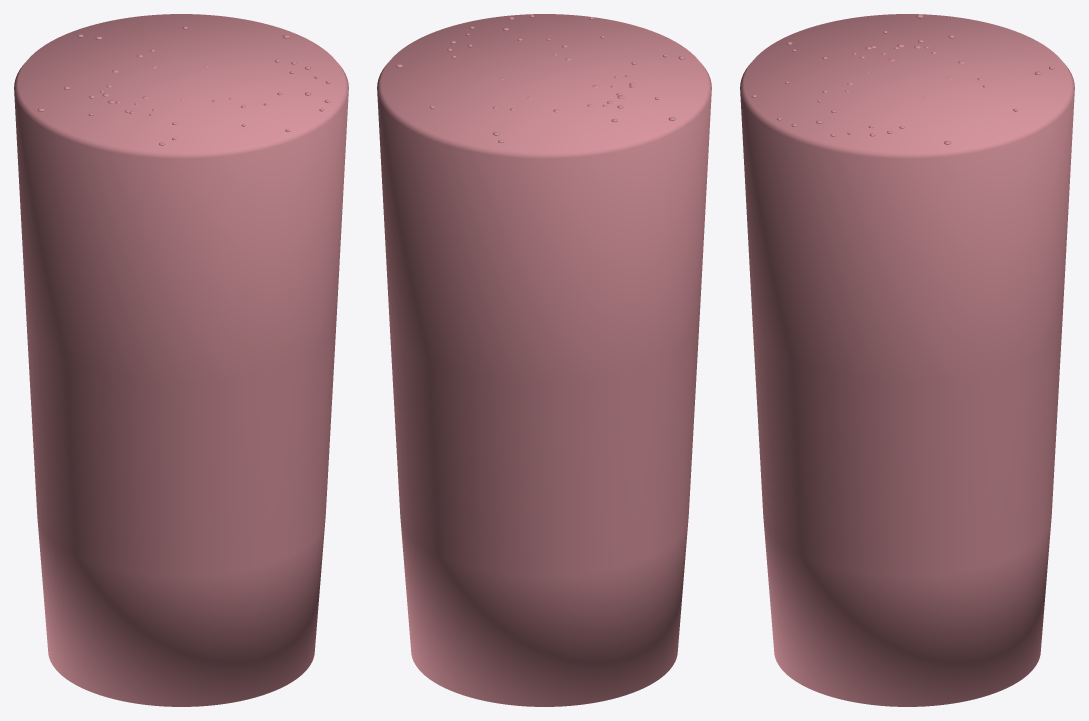
Rendered from sweet-shake-cherry.glb.
3 views of the same model, side by side, from view 1: azimuth 30°, elevation 25°; view 2: azimuth 150°, elevation 25°; view 3: azimuth 270°, elevation 25° (orthographic).
Parts seen in each view (by area): view 1: cherry shake; view 2: cherry shake; view 3: cherry shake.
Boxes of the visible parts, box(x1,y1,x2,y2) form: cherry shake: box(14, 14, 348, 706); cherry shake: box(377, 14, 711, 706); cherry shake: box(740, 14, 1074, 706).
Bounding box in the file's own units: 1.23 × 2.31 × 1.23.
